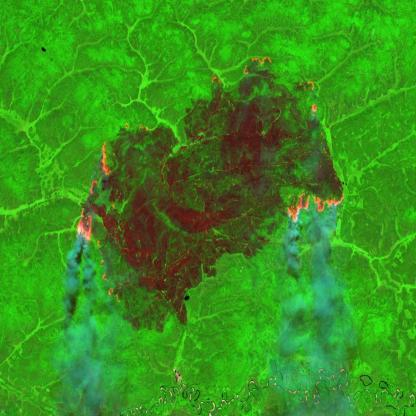fire: (76, 139, 124, 306), (286, 192, 346, 224), (302, 77, 322, 115), (242, 57, 274, 76)
